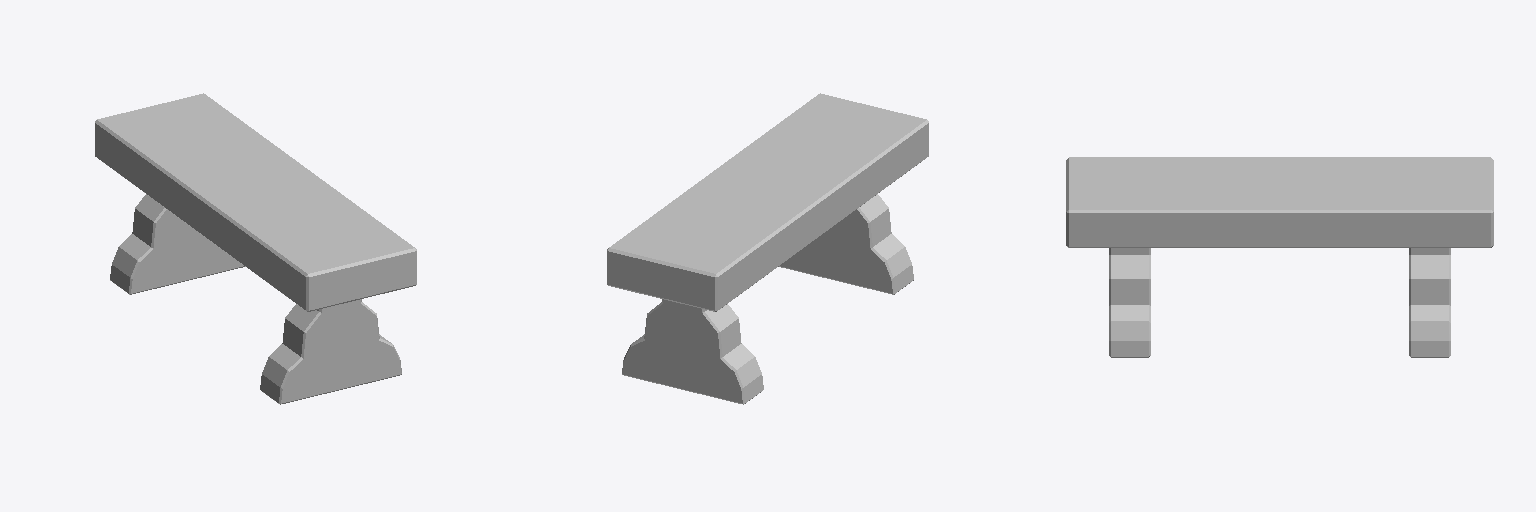
File: Stone bench.obj
3 renders of one model, left to right at view 1: azimuth 30°, elevation 25°; view 2: azimuth 150°, elevation 25°; view 3: azimuth 270°, elevation 25°, orthographic.
Parts seen in each view (by area): view 1: Stone_bench_Cube; view 2: Stone_bench_Cube; view 3: Stone_bench_Cube.
Boxes of the visible parts, x1,y1,x2,y2 form: Stone_bench_Cube: [95, 93, 416, 404]; Stone_bench_Cube: [607, 93, 928, 404]; Stone_bench_Cube: [1066, 157, 1493, 357].
Size of the model in its own units: 1.43 by 1.6 by 4.28.